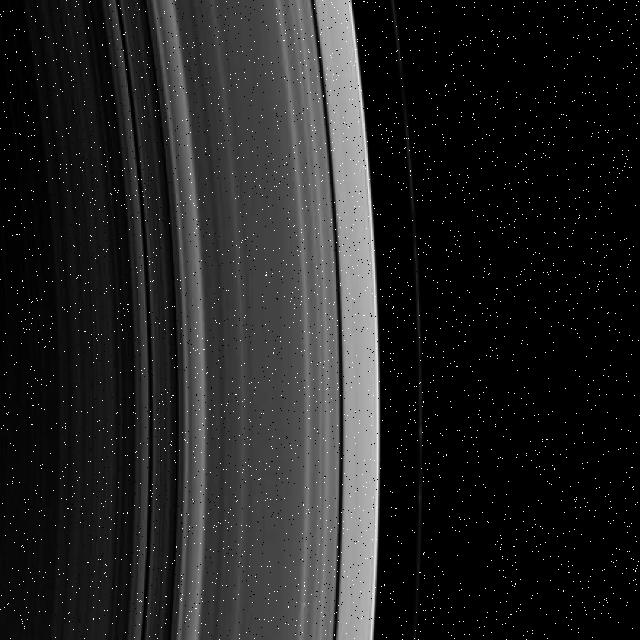Saturn: (0, 0, 428, 640)
